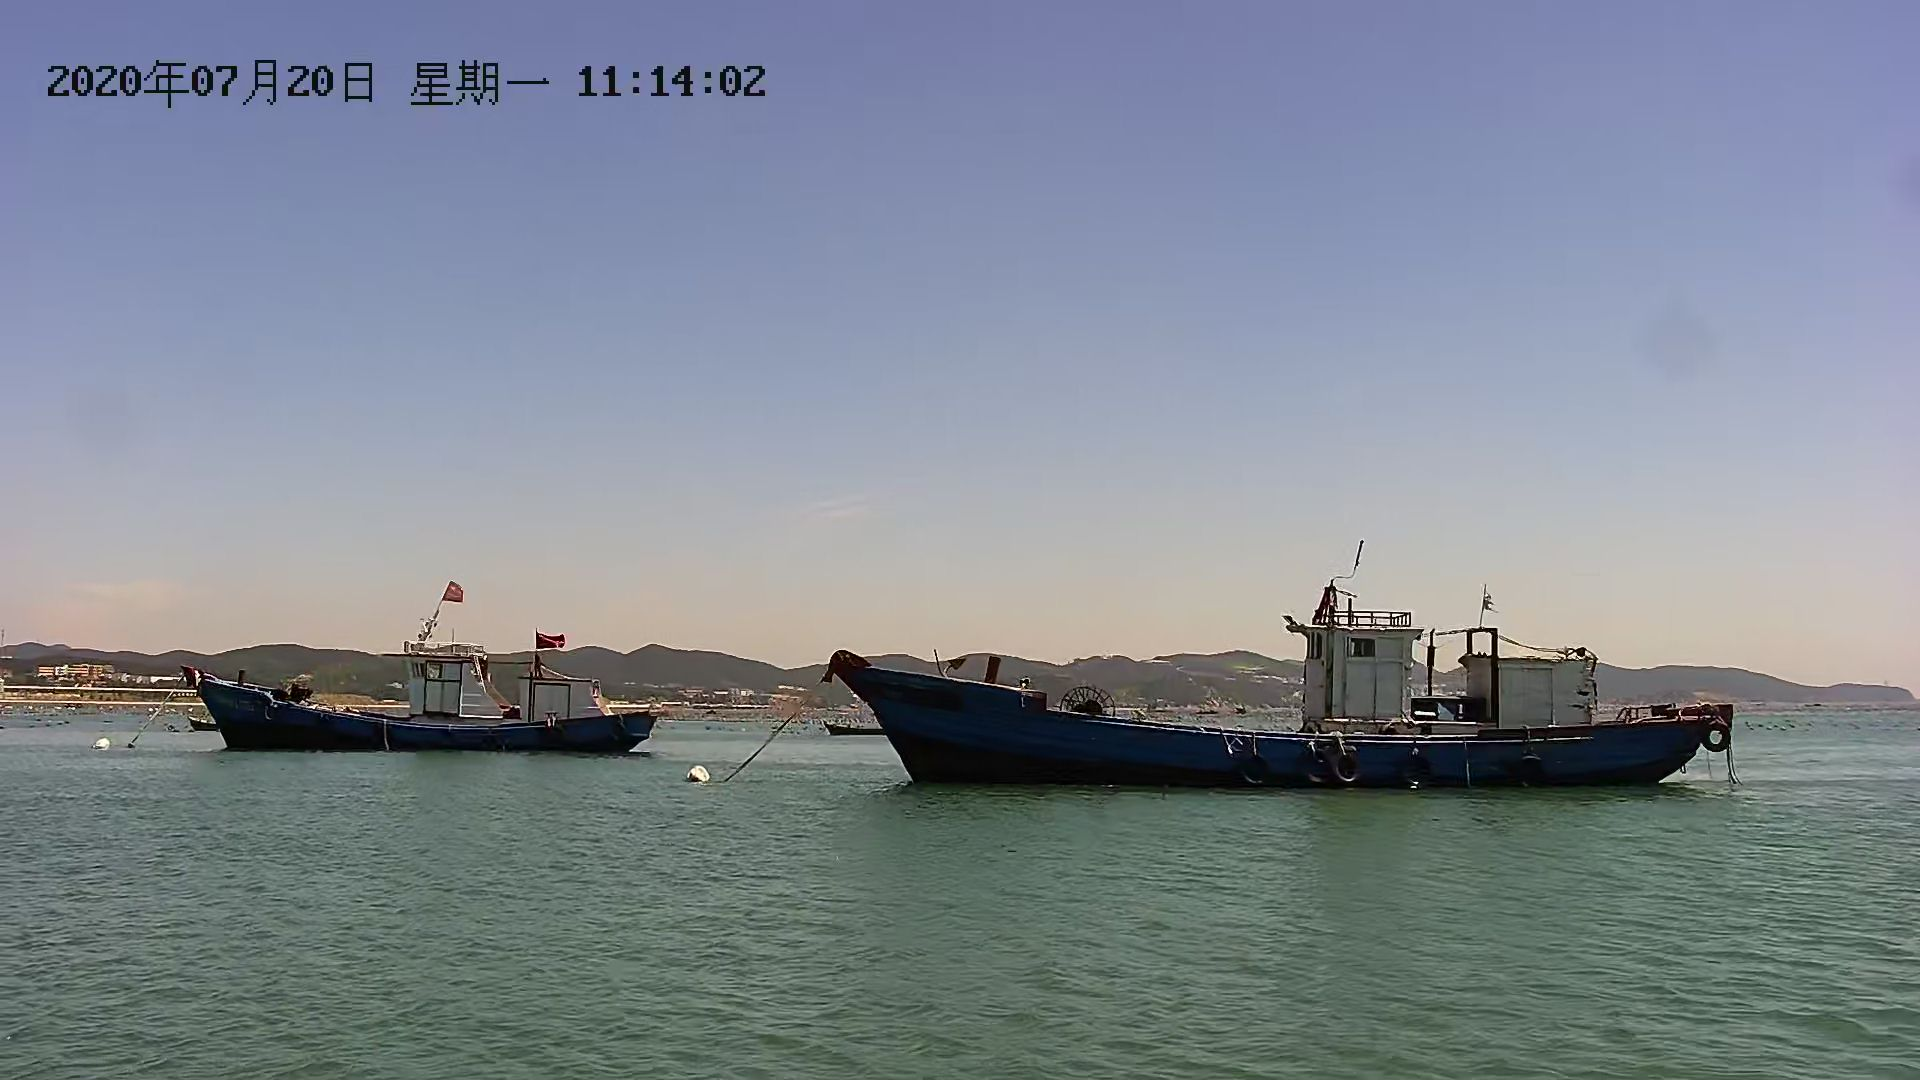ball: (680, 761, 715, 787), (92, 732, 119, 746)
boat: (825, 603, 1751, 798), (191, 617, 671, 767)
